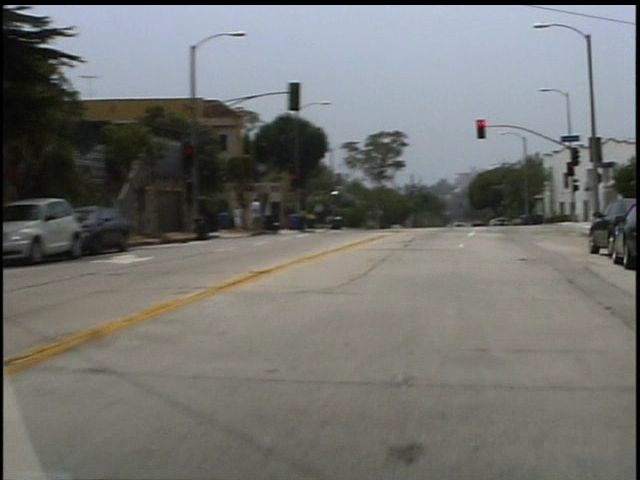person: (254, 197, 269, 237), (239, 203, 249, 234)
